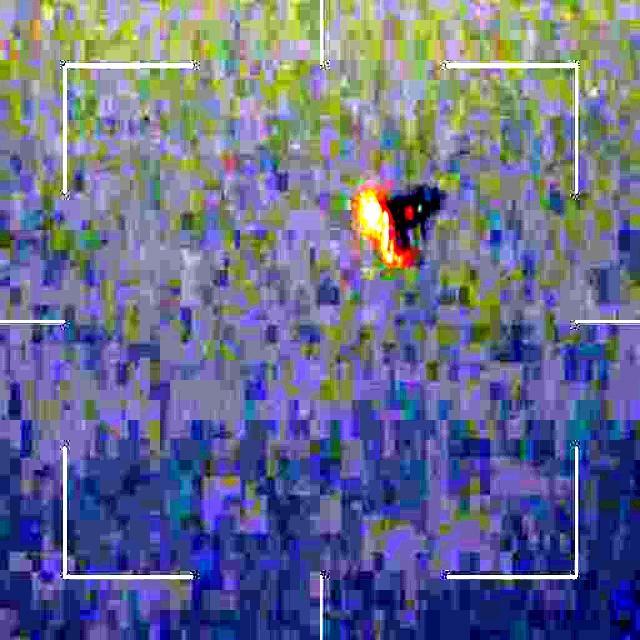bird: (358, 172, 441, 259)
